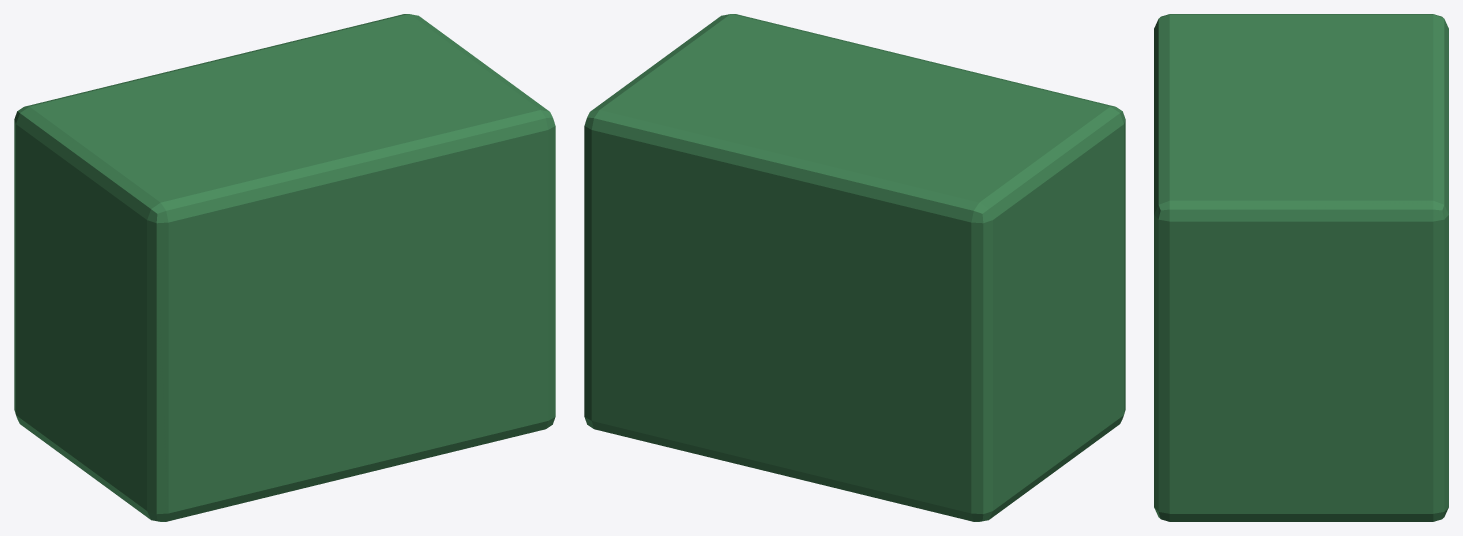
File: Prop_Street_037.glb
The picture shows the model from 3 angles, left to right: view 1: azimuth 30°, elevation 25°; view 2: azimuth 150°, elevation 25°; view 3: azimuth 270°, elevation 25°; orthographic projection.
Parts seen in each view (by area): view 1: Prop_Street_037; view 2: Prop_Street_037; view 3: Prop_Street_037.
Boxes of the visible parts, x1=… form: Prop_Street_037: x1=14, y1=14, x2=555, y2=521; Prop_Street_037: x1=584, y1=14, x2=1125, y2=521; Prop_Street_037: x1=1154, y1=14, x2=1448, y2=521.
Bounding box in the file's own units: 2.4 × 1.8 × 1.5.
